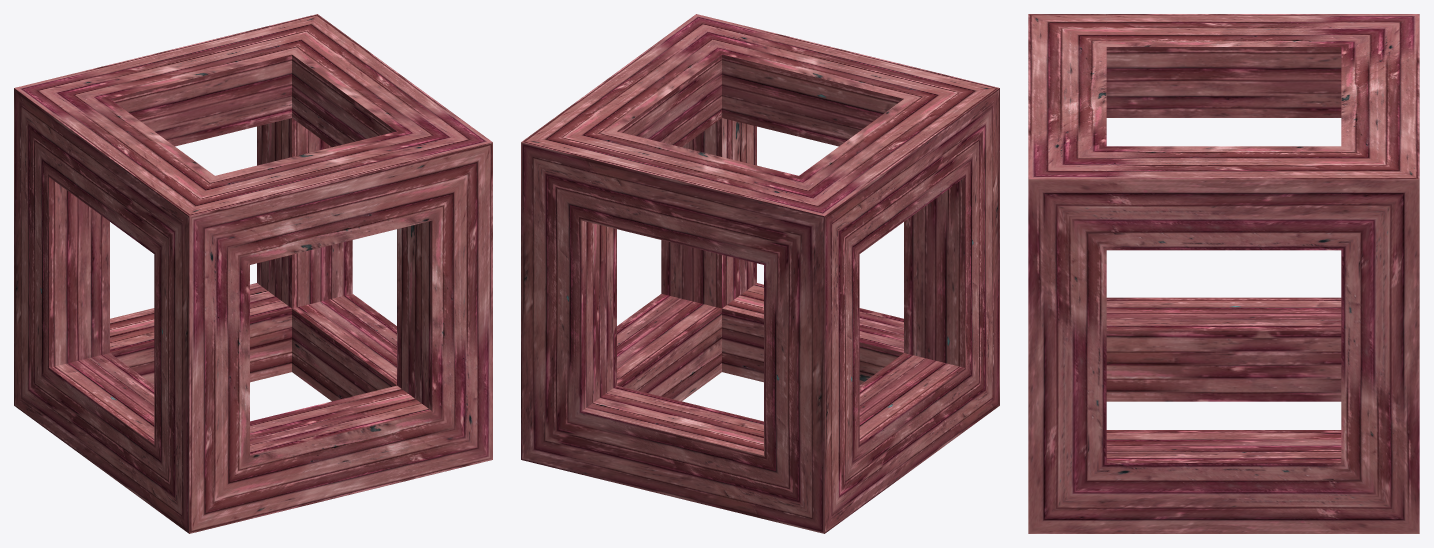
Rendered from cargo.FBX.
The picture shows the model from 3 angles, left to right: view 1: azimuth 30°, elevation 25°; view 2: azimuth 150°, elevation 25°; view 3: azimuth 270°, elevation 25°; orthographic projection. The views are drawn at different scales.
Parts seen in each view (by area): view 1: CargoBox; view 2: CargoBox; view 3: CargoBox.
Part boxes in pixels (x1,y1,x2,y2): CargoBox: (14,14,492,533); CargoBox: (521,14,999,533); CargoBox: (1028,14,1419,533).
Size of the model in its own units: 1 by 1 by 1.
